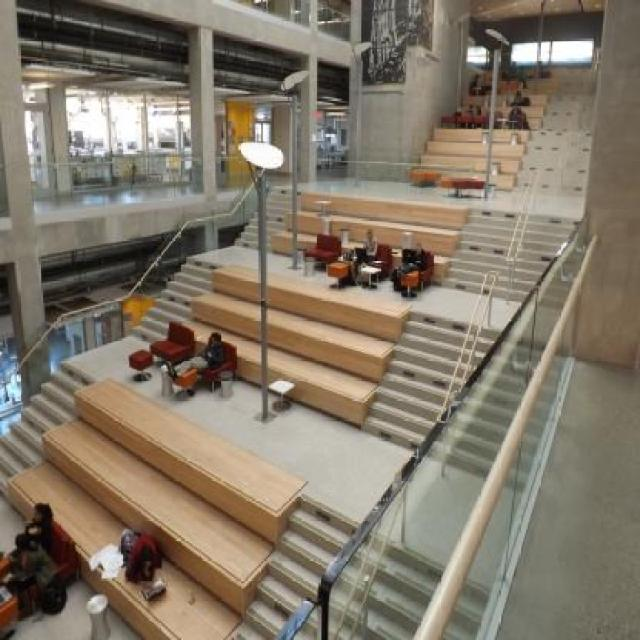stair: (0, 180, 566, 640)
